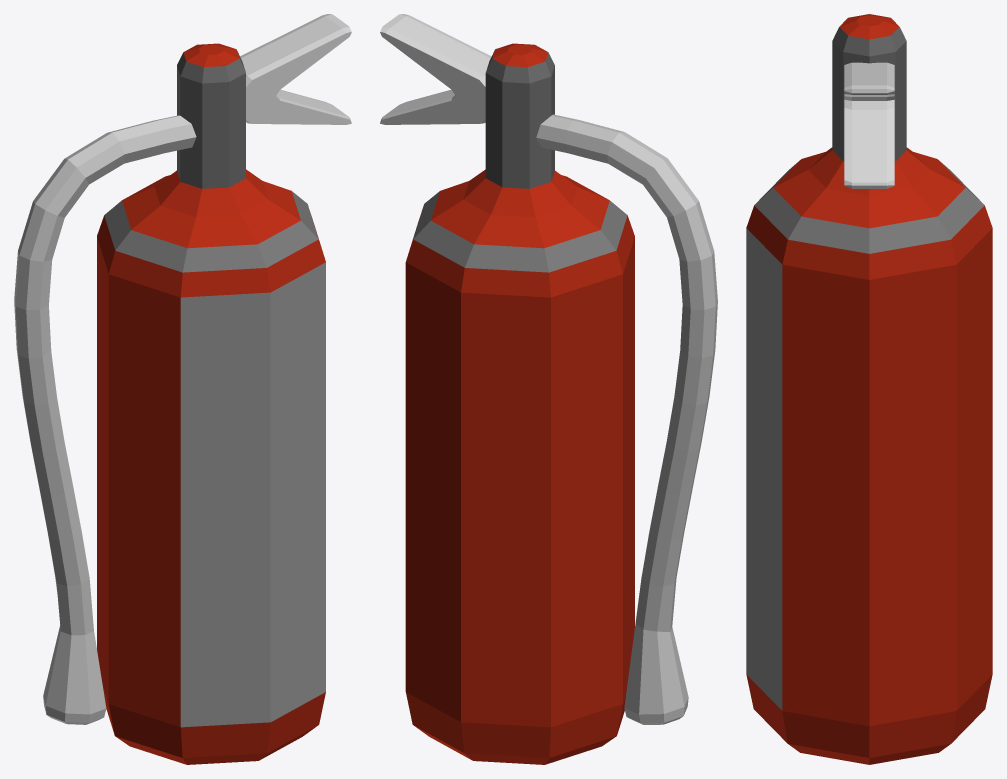
File: Extinguisher.fbx
3 views of the same model, side by side, from view 1: azimuth 30°, elevation 25°; view 2: azimuth 150°, elevation 25°; view 3: azimuth 270°, elevation 25° (orthographic). The views are drawn at different scales.
Parts seen in each view (by area): view 1: Extinguisher; view 2: Extinguisher; view 3: Extinguisher.
Part boxes in pixels (bbox=[...]): Extinguisher: bbox=[14, 14, 351, 764]; Extinguisher: bbox=[380, 14, 717, 764]; Extinguisher: bbox=[746, 14, 992, 764].
Size of the model in its own units: 0.3134 by 0.6214 by 0.1975.
Materials: 1 (1 with a texture image).
